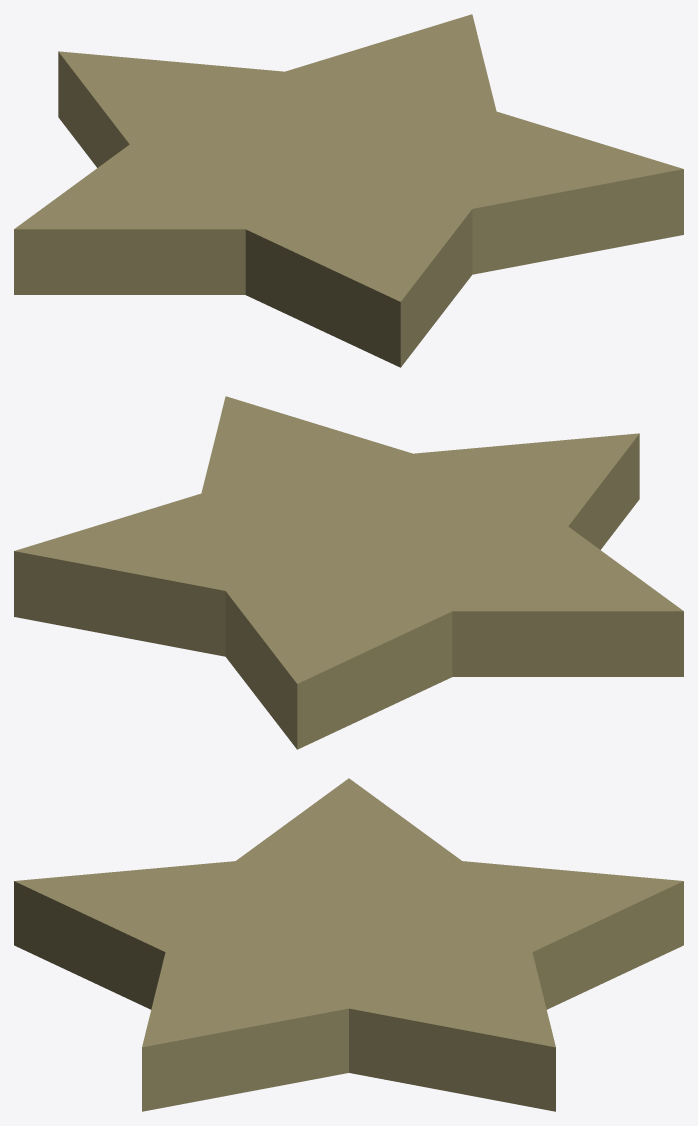
Rendered from Etoile_Chain.FBX.
The picture shows the model from 3 angles, top to bottom: view 1: azimuth 30°, elevation 25°; view 2: azimuth 150°, elevation 25°; view 3: azimuth 270°, elevation 25°; orthographic projection. The views are drawn at different scales.
Visible parts, largest first — view 1: 3DIcon_EtoilePosition; view 2: 3DIcon_EtoilePosition; view 3: 3DIcon_EtoilePosition.
Part boxes in pixels (box(x1,y1,x2,y2)): 3DIcon_EtoilePosition: box(14, 14, 683, 367); 3DIcon_EtoilePosition: box(14, 396, 683, 749); 3DIcon_EtoilePosition: box(14, 778, 683, 1111).
Bounding box in the file's own units: 0.7453 × 0.0831 × 0.7837.
